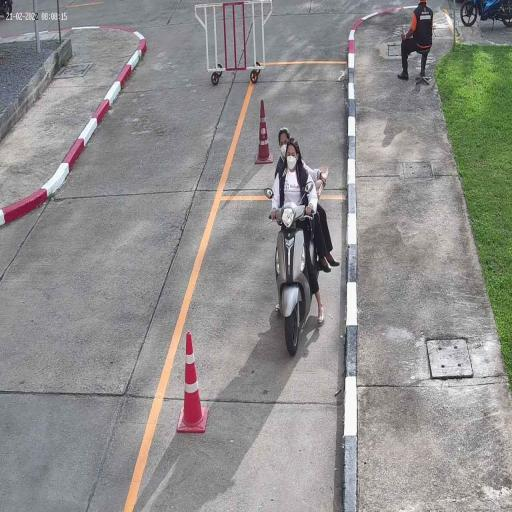motorcycle: (276, 202, 308, 358)
